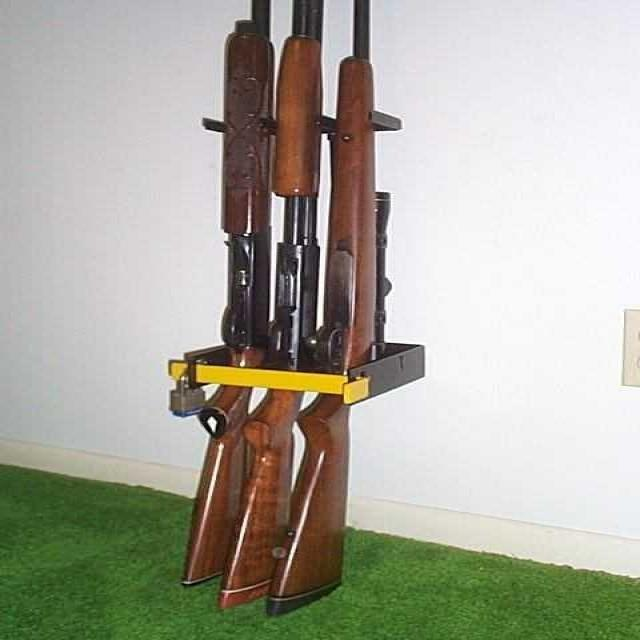weapon: (263, 0, 397, 633)
